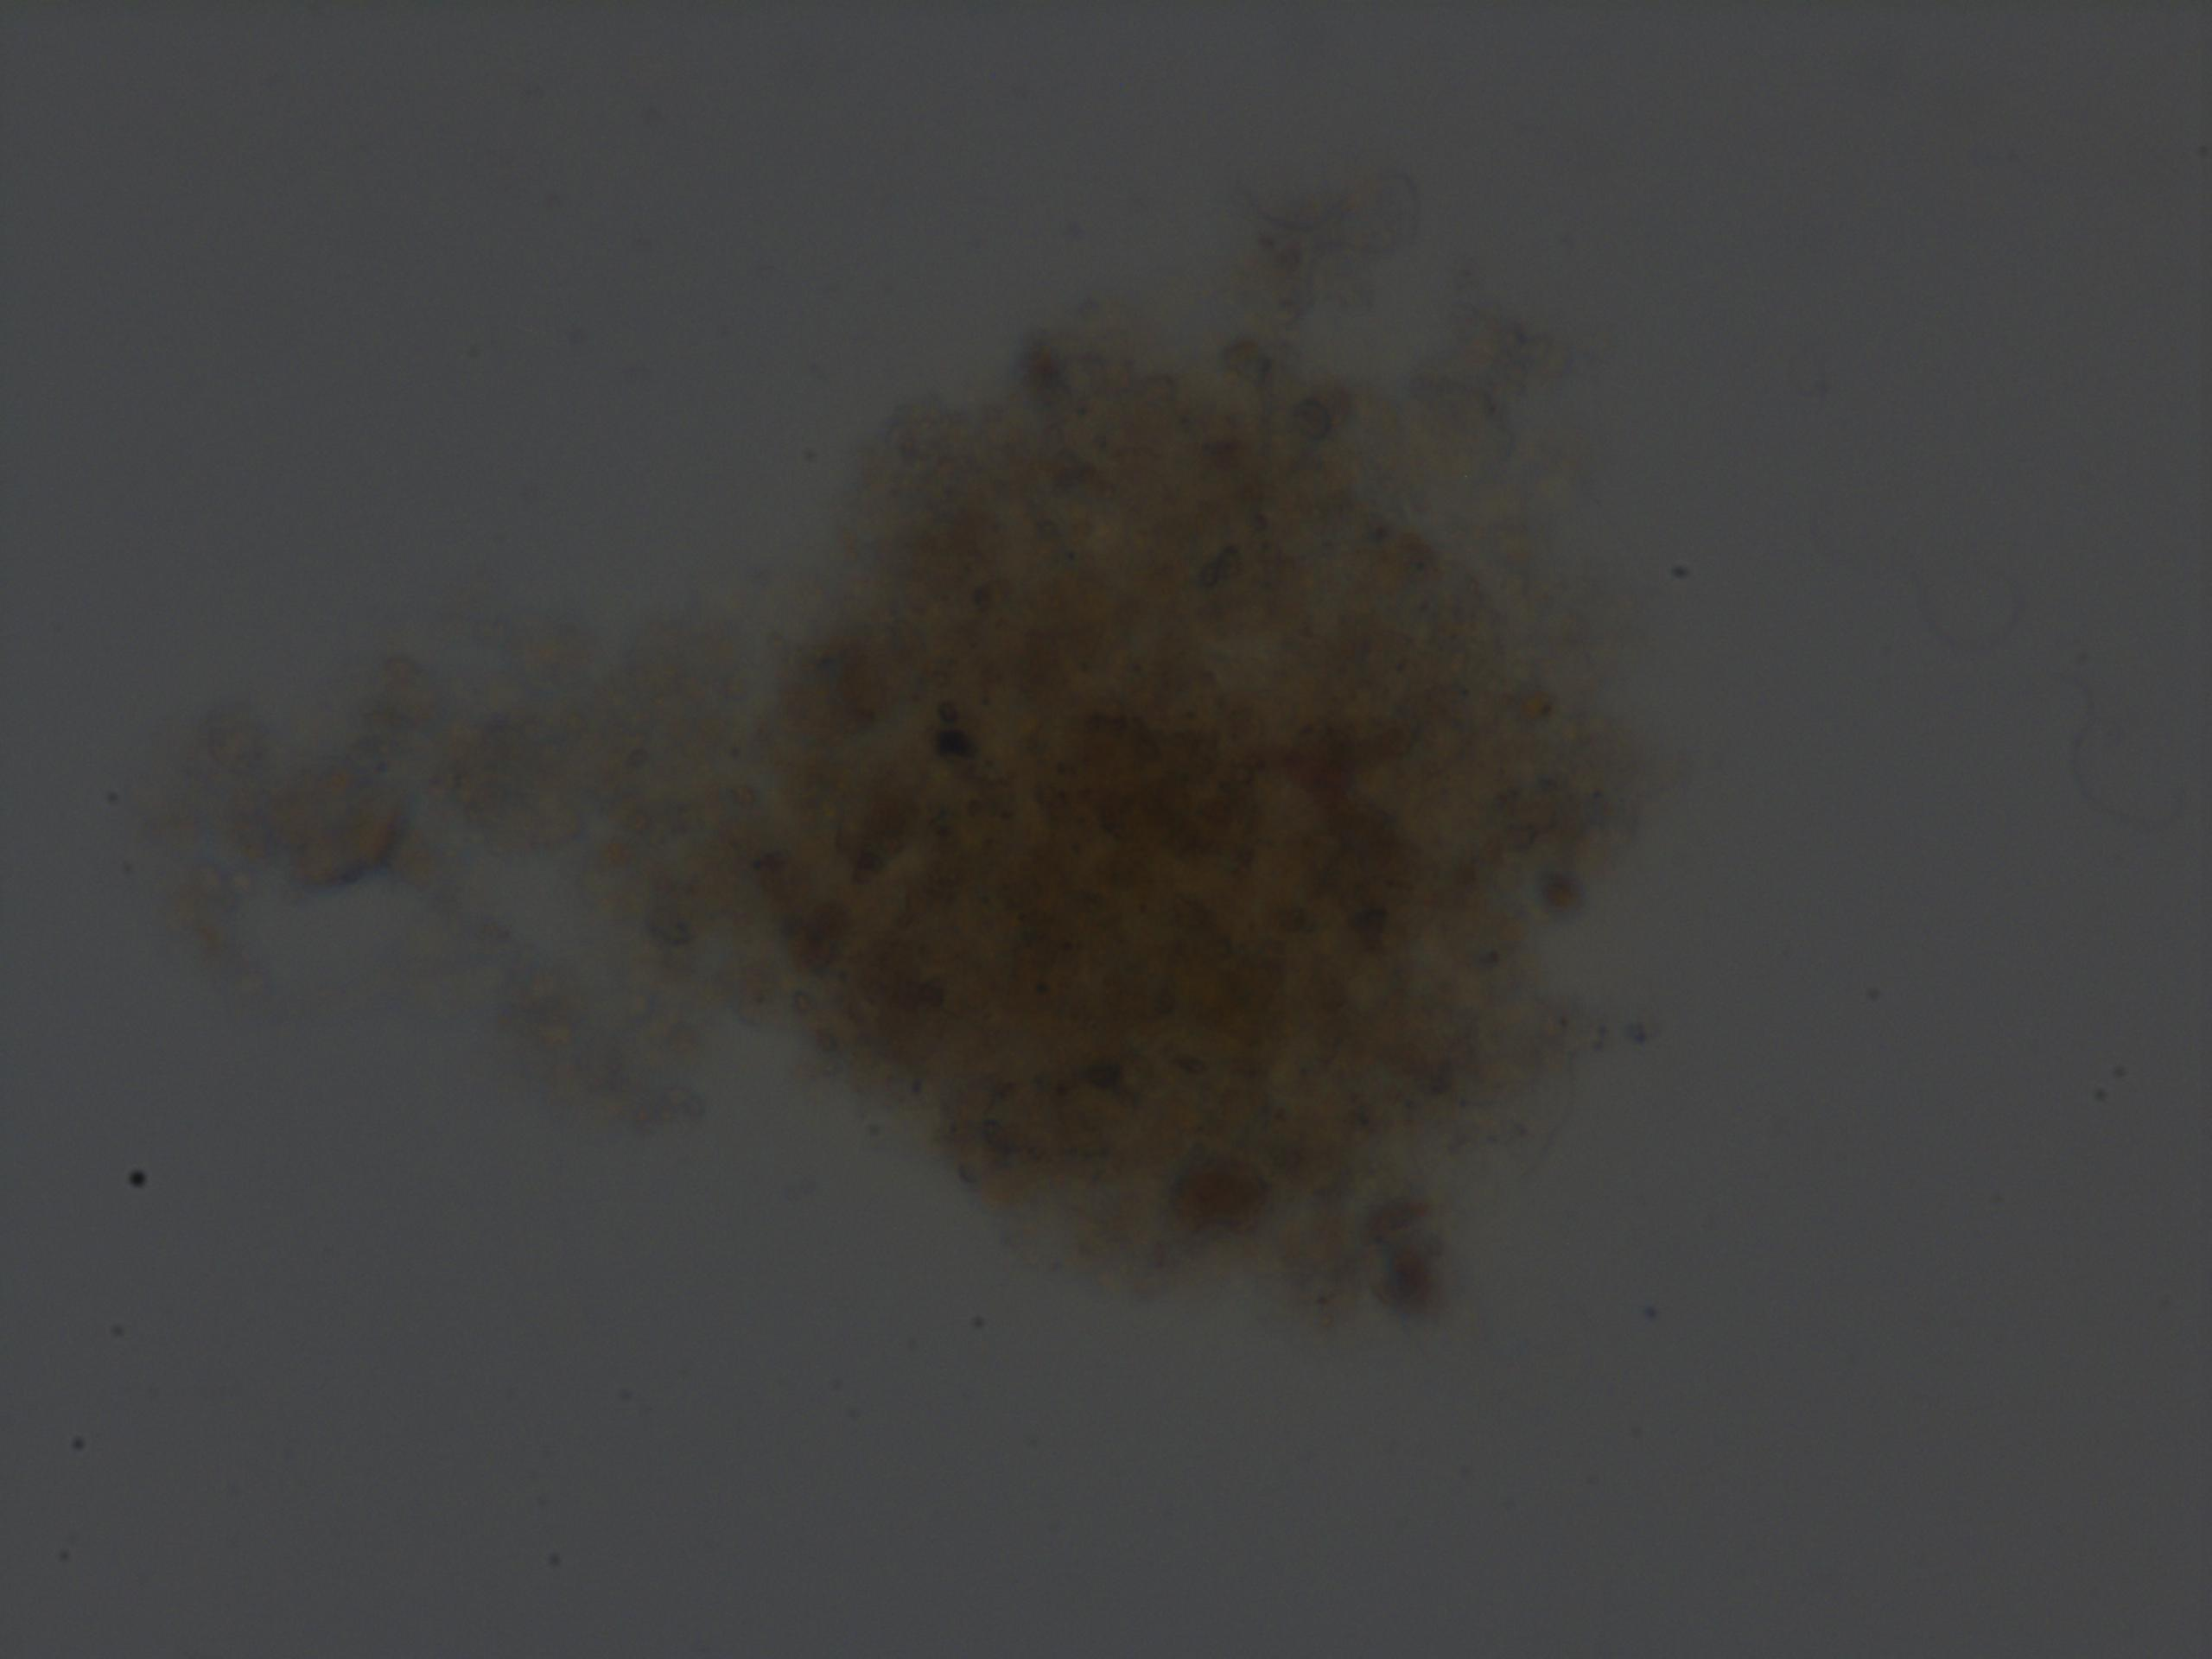spherical_floc: (664, 303, 1639, 1352)
